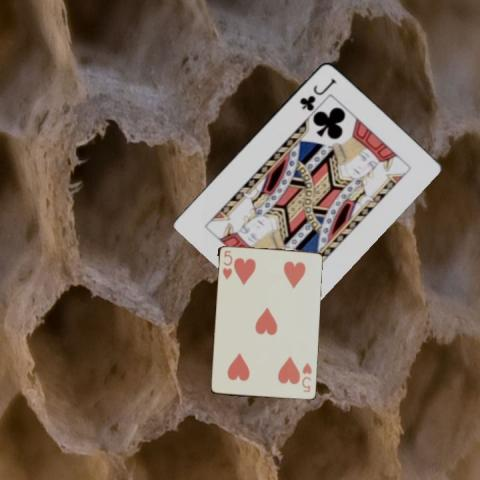5h: (300, 360, 314, 394), (220, 248, 233, 281)
Jc: (297, 75, 337, 111)
